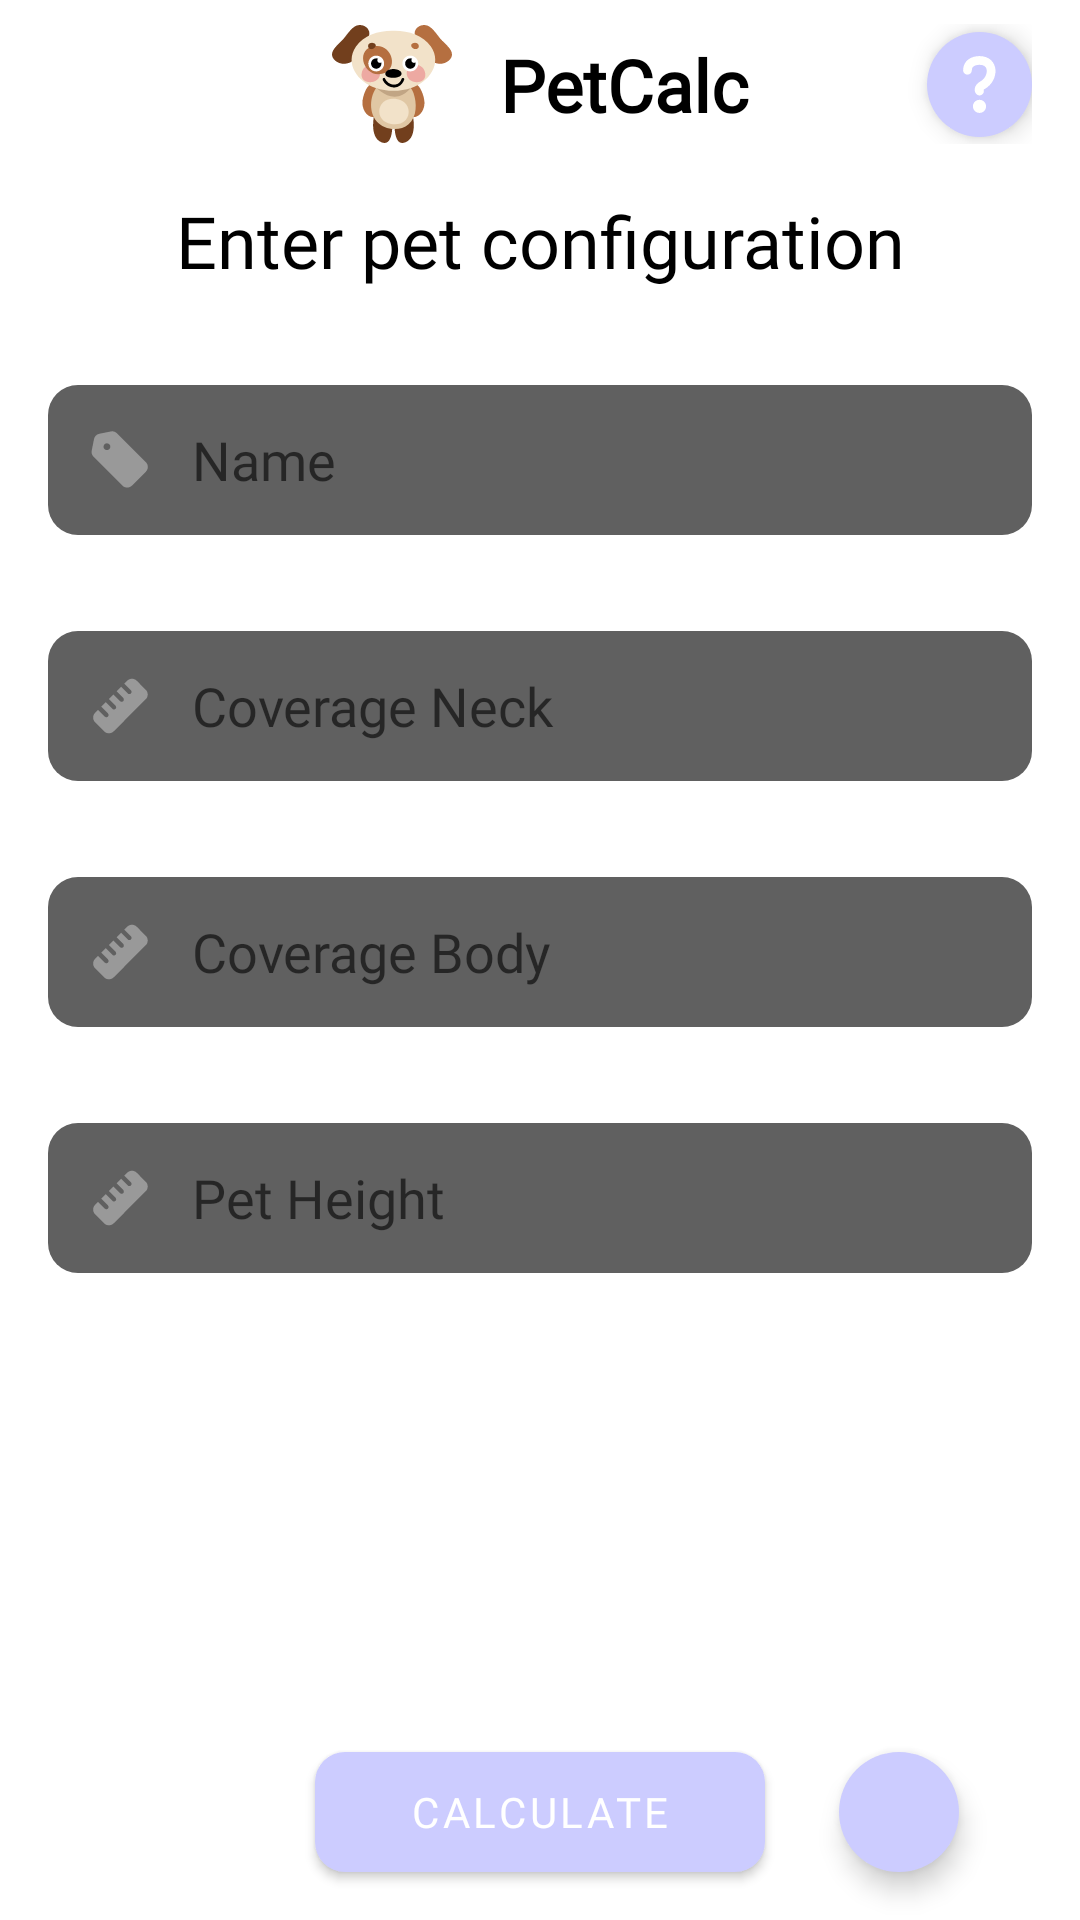

Icon bounding boxes for this 1080 × 1920 phone screenshot, format bbox=[x1, y1, x2, y2]:
dog: bbox=[332, 25, 452, 143]
question: bbox=[927, 32, 1032, 137]
